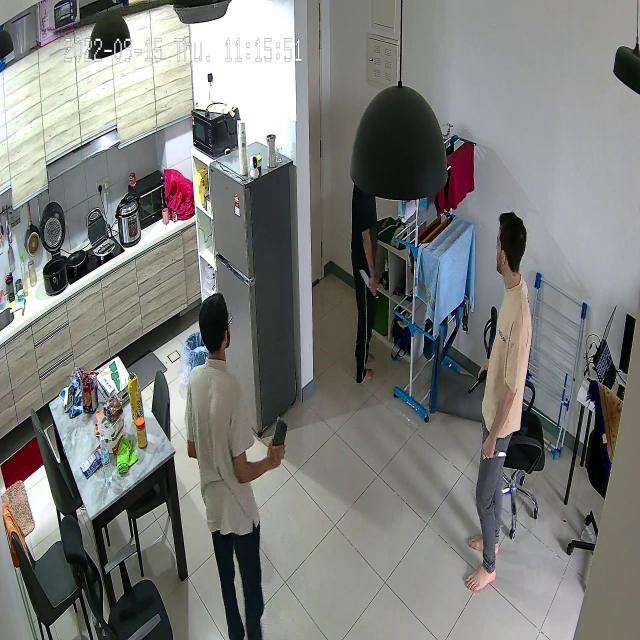Knife: (352, 263, 385, 305), (483, 445, 511, 465)
